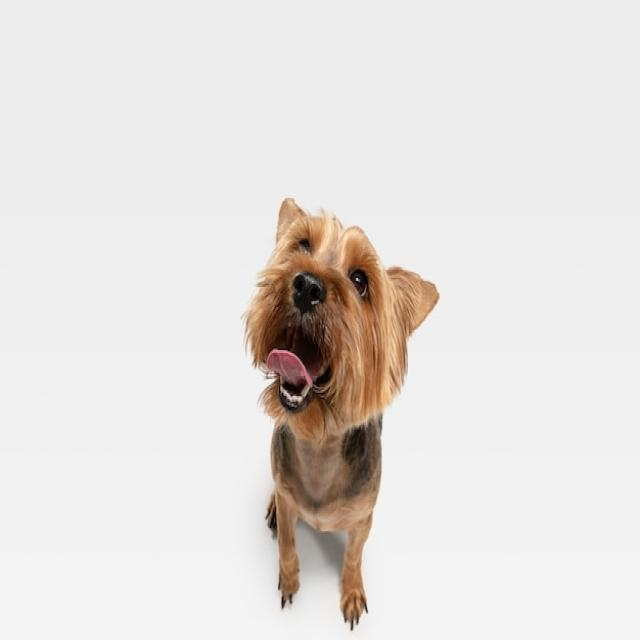Dog: (243, 198, 441, 629)
